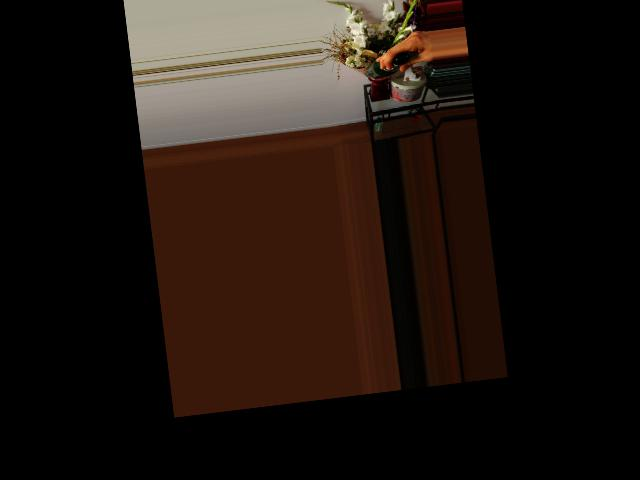beer: (364, 52, 411, 80)
